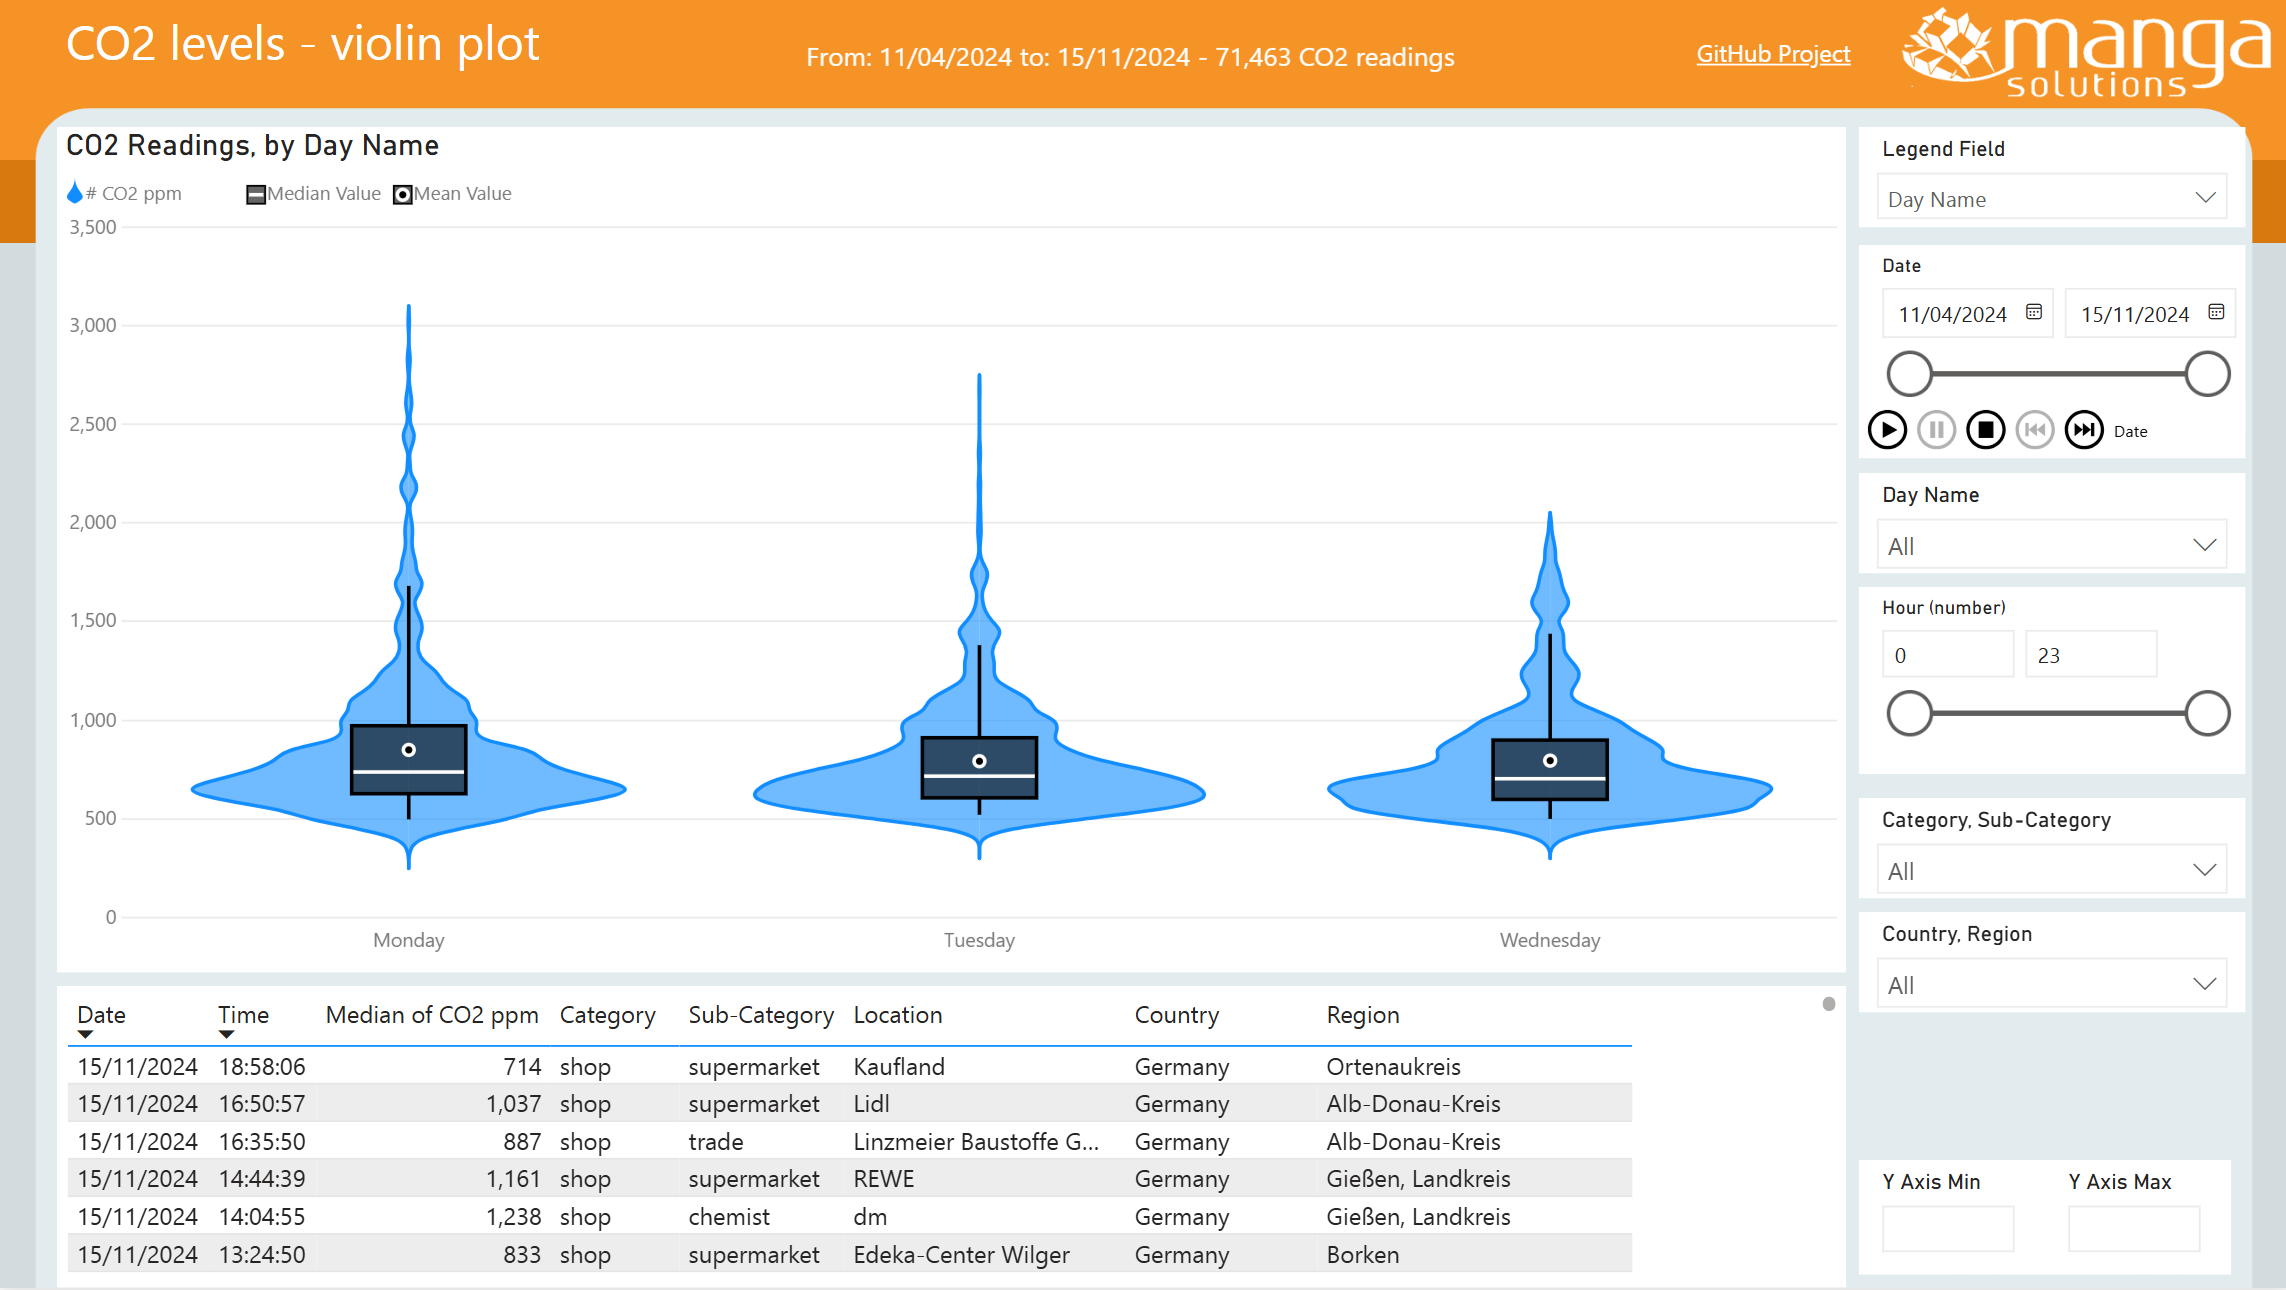

This screenshot's page, from the dashboard's own definition file:
{"tool":"powerbi","page":{"name":"Violin Plot","canvas":[1280,720],"ordinal":3},"visuals":[{"type":"slicer","fields":{"Values":["Parameter.Parameter"]},"box":[1040,72,216,56],"z":0},{"type":"violinPlot4D46EB9EB3A141D9BA2289793175D971","fields":{"category":["CO2 levels.Day Name"],"measure":["Aranet Data.# Median of CO2 ppm"],"sampling":["Aranet Data.Index"]},"box":[32,72,1000,472],"z":1000},{"type":"slicer","fields":{"Values":["CO2_readings.Day Name"]},"box":[1040,265,216,56],"z":3000},{"type":"slicer","fields":{"Values":["CO2_readings.date"]},"box":[1040,137,216,104],"z":4000},{"type":"slicer","fields":{"Values":["CO2_readings.Hour (number)1"]},"box":[1040,329,216,104],"z":6000},{"type":"slicer","fields":{"Values":["Y Axis Max.Y Axis Max"]},"box":[1144,648,104,64],"z":7000},{"type":"slicer","title":"Y Axis Min","fields":{"Values":["^ Y Axis Min.^ Y Axis Min"]},"box":[1040,648,104,64],"z":8000},{"type":"PBI_CV_16948668_E17D_454B_8664_2F2C470EA8C1","fields":{"category":["CO2_readings.Date (Short)"]},"box":[1040,225,216,32],"z":9000},{"type":"actionButton","box":[1056,0,224,64],"z":10000},{"type":"textbox","box":[32,0,720,48],"z":11000},{"type":"htmlContent443BE3AD55E043BF878BED274D3A6865","fields":{"content":["Aranet Data.@ Date Range"]},"box":[408,16,464,32],"z":12000},{"type":"textbox","box":[920,16,120,32],"z":13000},{"type":"slicer","fields":{"Values":["CO2 levels.Category","CO2 levels.Sub-Category"]},"box":[1040,446.1,216,56],"z":14000},{"type":"slicer","fields":{"Values":["CO2 levels.Country","CO2 levels.Region"]},"box":[1040,510.1,216,56],"z":15000},{"type":"tableEx","fields":{"Values":["CO2_readings.date","CO2_readings.Time","CO2 levels.# Median of CO2 ppm","CO2 levels.Category","CO2 levels.Sub-Category","CO2 levels.Location","CO2 levels.Country","CO2 levels.Region"]},"box":[31.9,551.5,1000.2,168.5],"z":16000}]}

Visuals, with their boxes on the page's 1280x720 design canvas (x1, y1, x2, y2). These are canvas units, not pixel positions in the 2286x1290 screenshot, which may show the page scaled, cropped or inside an application window:
slicer - Parameter.Parameter: (left=1040, top=72, right=1256, bottom=128)
violinPlot4D46EB9EB3A141D9BA2289793175D971 - CO2 levels.Day Name x Aranet Data.# Median of CO2 ppm: (left=32, top=72, right=1032, bottom=544)
slicer - CO2_readings.Day Name: (left=1040, top=265, right=1256, bottom=321)
slicer - CO2_readings.date: (left=1040, top=137, right=1256, bottom=241)
slicer - CO2_readings.Hour (number)1: (left=1040, top=329, right=1256, bottom=433)
slicer - Y Axis Max.Y Axis Max: (left=1144, top=648, right=1248, bottom=712)
"Y Axis Min" slicer: (left=1040, top=648, right=1144, bottom=712)
PBI_CV_16948668_E17D_454B_8664_2F2C470EA8C1 - CO2_readings.Date (Short): (left=1040, top=225, right=1256, bottom=257)
actionButton: (left=1056, top=0, right=1280, bottom=64)
textbox: (left=32, top=0, right=752, bottom=48)
htmlContent443BE3AD55E043BF878BED274D3A6865 - Aranet Data.@ Date Range: (left=408, top=16, right=872, bottom=48)
textbox: (left=920, top=16, right=1040, bottom=48)
slicer - CO2 levels.Category x CO2 levels.Sub-Category: (left=1040, top=446, right=1256, bottom=502)
slicer - CO2 levels.Country x CO2 levels.Region: (left=1040, top=510, right=1256, bottom=566)
tableEx - CO2_readings.date x CO2_readings.Time: (left=32, top=552, right=1032, bottom=720)
